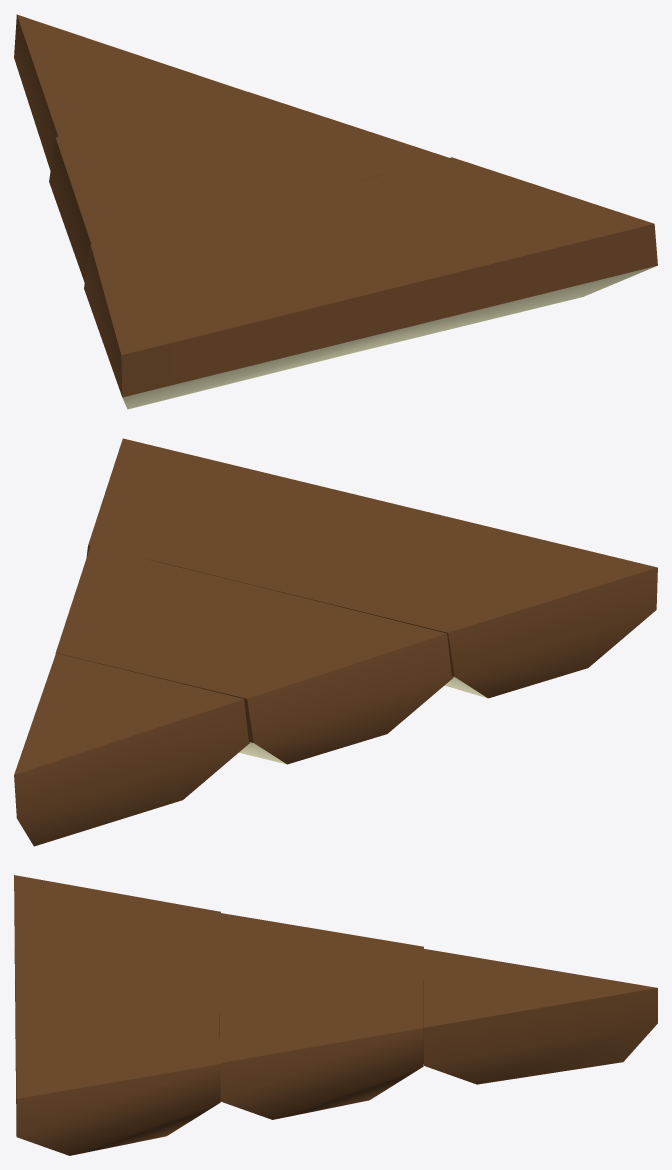
Rendered from w45_wood_2_birchSplitLogTriFloorSection2.glb.
3 renders of one model, top to bottom at view 1: azimuth 30°, elevation 25°; view 2: azimuth 150°, elevation 25°; view 3: azimuth 270°, elevation 25°, orthographic. The views are drawn at different scales.
Parts seen in each view (by area): view 1: inside; view 2: inside; view 3: inside.
Boxes of the visible parts, box(x1,y1,x2,y2) form: inside: box(14, 14, 657, 409); inside: box(14, 438, 657, 846); inside: box(14, 875, 657, 1155).
Bounding box in the file's own units: 0.7924 × 0.1233 × 0.9563.
